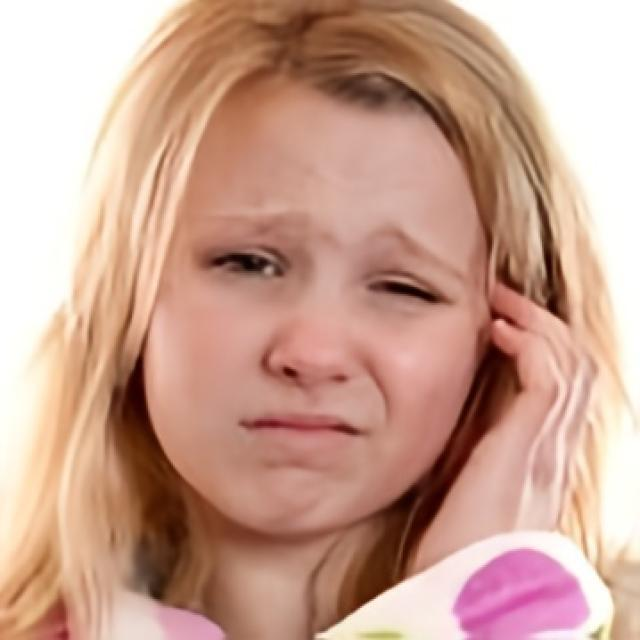sad: (144, 84, 488, 533)
